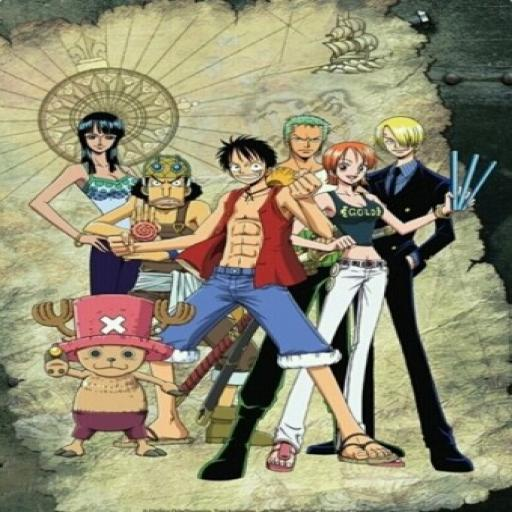Luffy: (211, 133, 279, 190)
Nami: (304, 140, 384, 186)
NicoRobin: (54, 111, 143, 186)
Usopp: (128, 156, 208, 212)
Zoro: (271, 114, 332, 168)
sanji: (365, 110, 435, 163)
